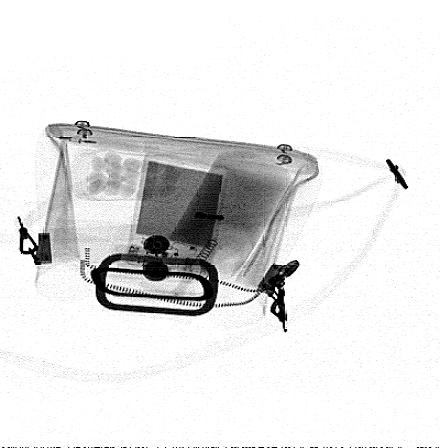Powerbank: (123, 152, 228, 275)
